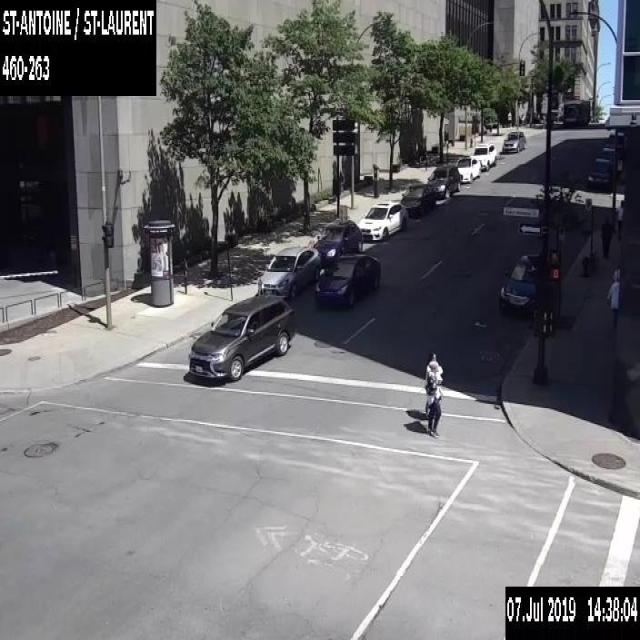bus: (562, 98, 590, 126)
pedestrian: (424, 350, 443, 419), (425, 360, 442, 436), (605, 269, 620, 328), (599, 213, 612, 258), (615, 198, 623, 242), (506, 109, 513, 128)
vehicle: (188, 294, 293, 379), (314, 252, 380, 305), (257, 246, 320, 301), (499, 253, 538, 314), (313, 219, 362, 264), (357, 199, 408, 241), (399, 182, 435, 217), (427, 164, 460, 197), (588, 156, 612, 190), (470, 142, 496, 169), (454, 156, 480, 182), (600, 146, 622, 171), (502, 130, 525, 152), (608, 132, 626, 151)
